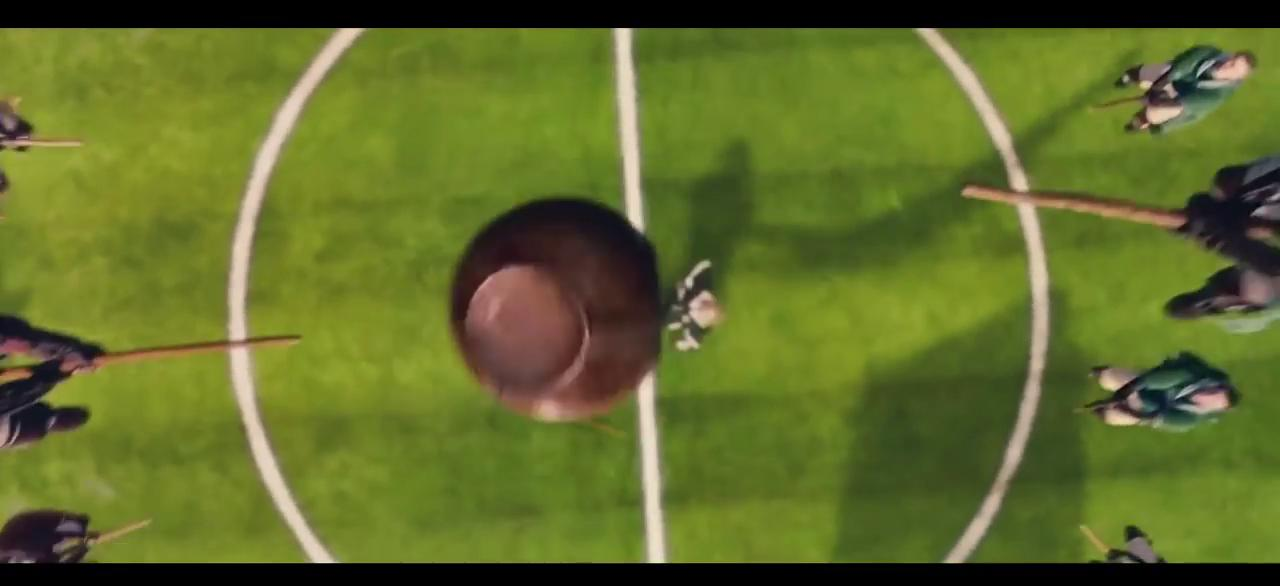quaffle: (448, 192, 662, 422)
